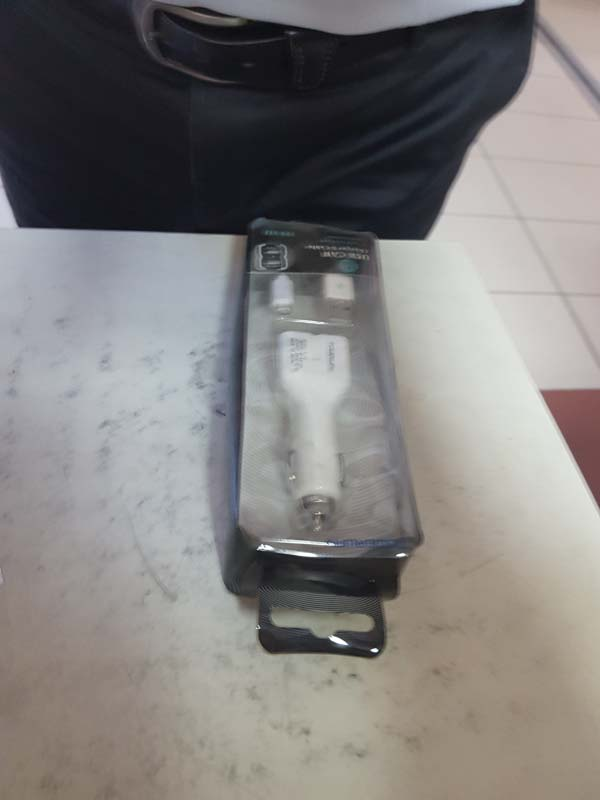usbcarcharger: (221, 209, 431, 681)
